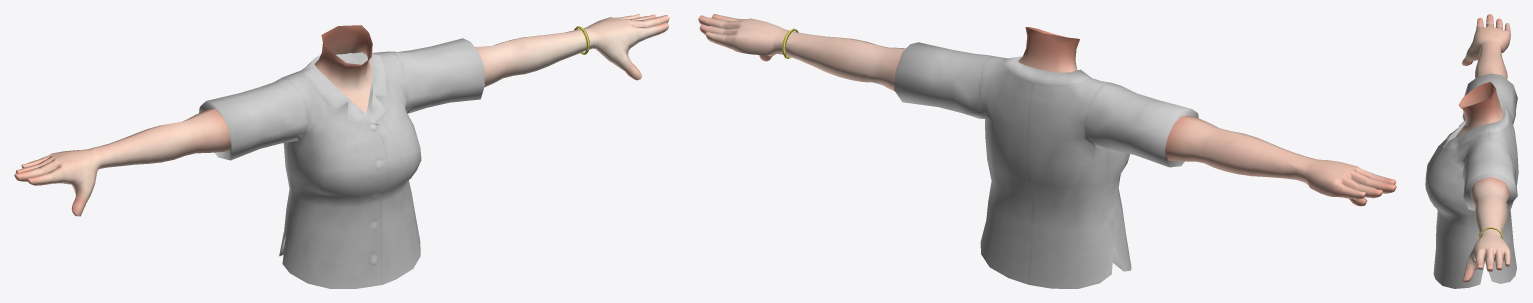
The model's file is tr0850_00_upb01.gltf.
3 views of the same model, side by side, from view 1: azimuth 30°, elevation 25°; view 2: azimuth 150°, elevation 25°; view 3: azimuth 270°, elevation 25° (orthographic). The views are drawn at different scales.
Parts seen in each view (by area): view 1: upb01_upperbody_mesh_shape:upperbody01, upb01_upperskin_mesh_shape:upperbody01_skin; view 2: upb01_upperbody_mesh_shape:upperbody01, upb01_upperskin_mesh_shape:upperbody01_skin; view 3: upb01_upperbody_mesh_shape:upperbody01, upb01_upperskin_mesh_shape:upperbody01_skin, upb01_bracelet_mesh_shape:upperbody01.
Boxes of the visible parts, <box> form: upb01_upperbody_mesh_shape:upperbody01: <box>199,38,484,288</box>; upb01_upperskin_mesh_shape:upperbody01_skin: <box>14,14,669,216</box>; upb01_upperbody_mesh_shape:upperbody01: <box>894,42,1198,288</box>; upb01_upperskin_mesh_shape:upperbody01_skin: <box>698,14,1396,206</box>; upb01_upperbody_mesh_shape:upperbody01: <box>1425,73,1518,288</box>; upb01_upperskin_mesh_shape:upperbody01_skin: <box>1455,14,1510,282</box>; upb01_bracelet_mesh_shape:upperbody01: <box>1478,227,1502,239</box>.
Size of what is drawn, in the model's own units: 1.63 by 0.5523 by 0.2535.
Materials: 2 (2 with a texture image).
